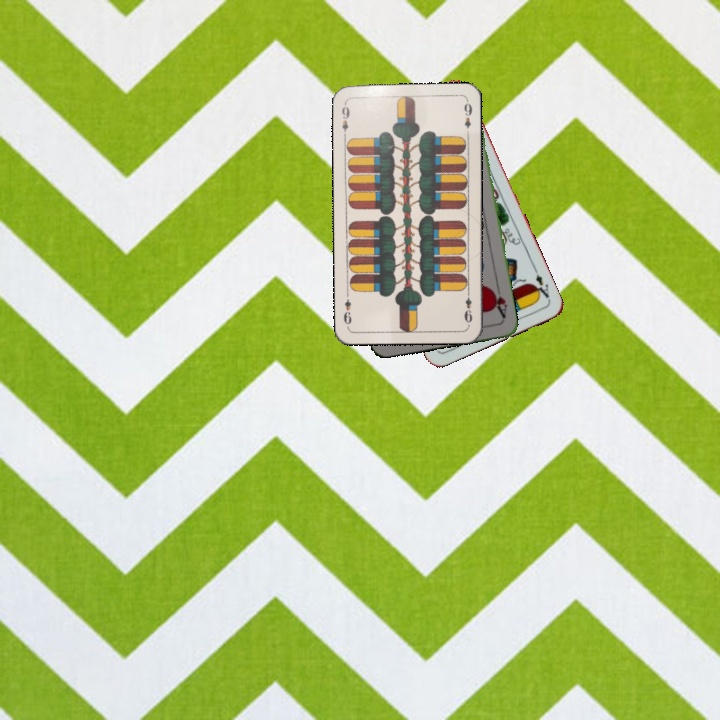E9: (460, 287, 475, 327), (338, 99, 352, 140)
EA: (529, 270, 553, 303)
HA: (487, 282, 510, 321)
